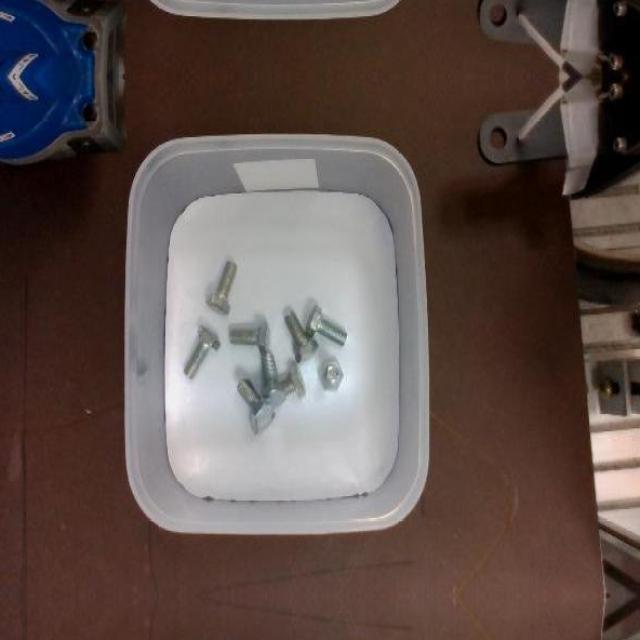screw: (182, 324, 220, 379), (284, 311, 319, 365), (237, 377, 276, 425), (205, 260, 237, 316), (305, 304, 347, 345), (230, 318, 272, 354), (319, 356, 344, 389)
